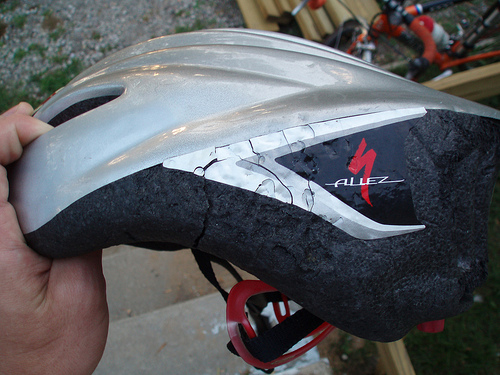helmet: (34, 41, 480, 300)
